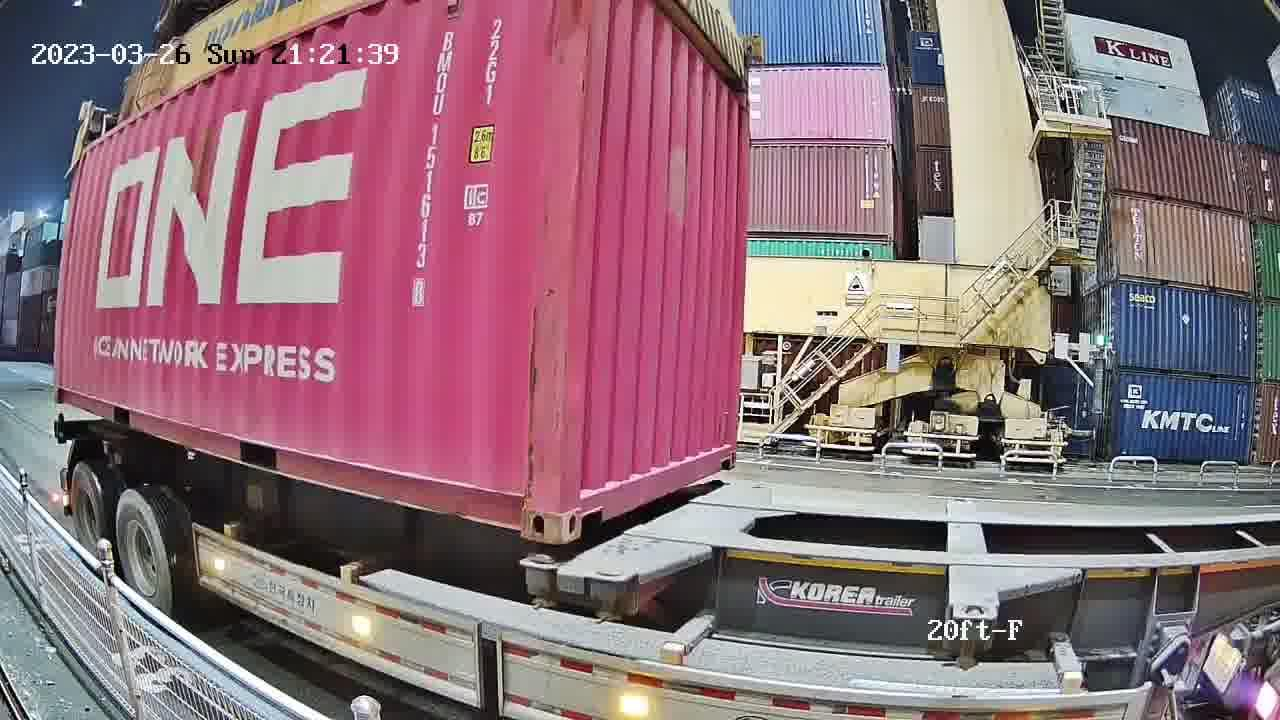Chassis: (590, 485, 770, 580)
Cone: (589, 565, 633, 623), (525, 551, 561, 610)
Hole_L: (562, 447, 614, 547)
Hole_R: (483, 454, 561, 545), (715, 427, 737, 473)
Tire: (114, 490, 172, 624), (70, 462, 109, 566)
